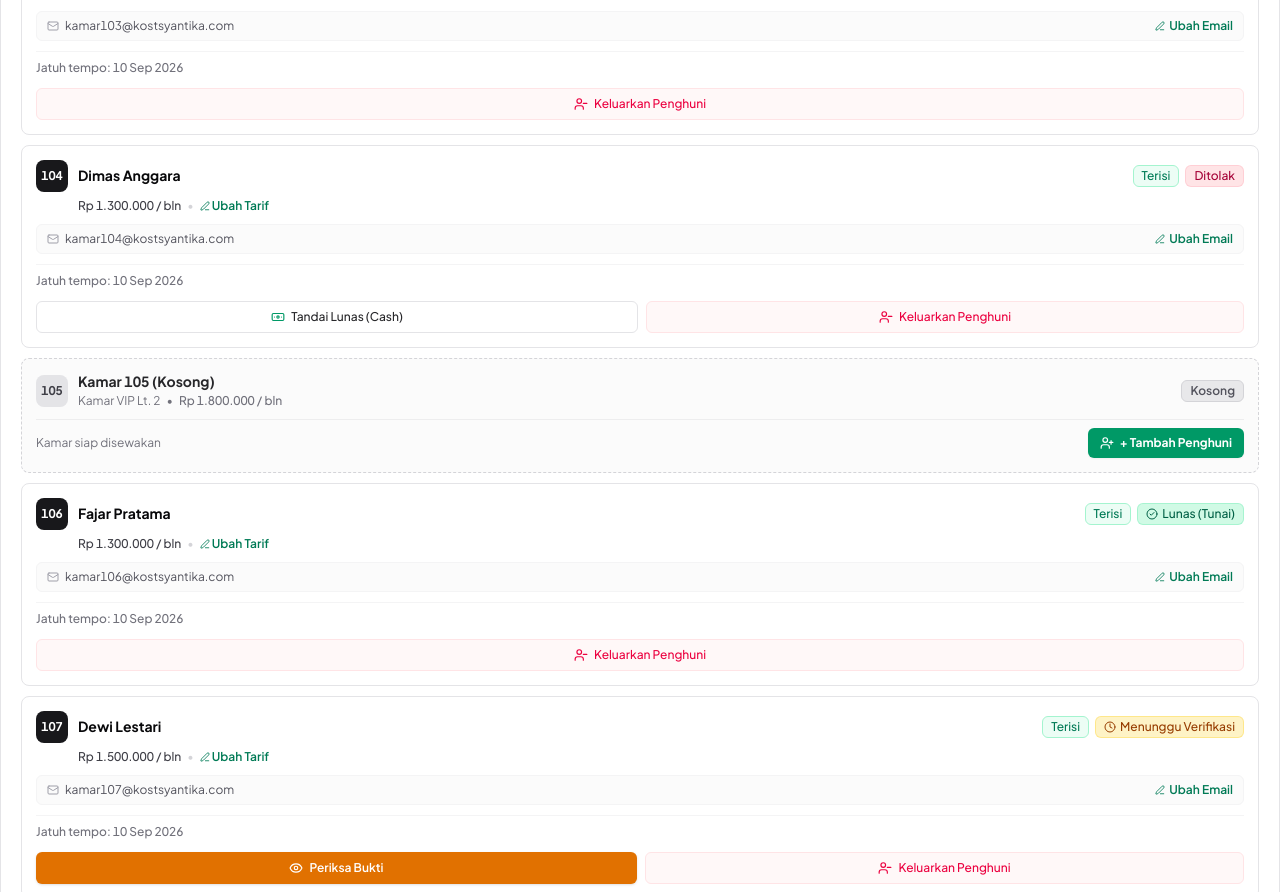
Scenario: PemilikManajemenKamar Integration (Issue 03) › 4. Unit kamar KOSONG dapat mendaftarkan penghuni baru (+ Tambah Penghuni) dan menyinkronkan tanggal jatuh tempo
(page scrolled)
Expected: the text "Kamar 105 (Kosong)" is shown, [78, 372, 215, 390]
Click the button with aria-label "Tambah Penghuni Kamar 105" at (1166,442), box [1088, 428, 1244, 458]
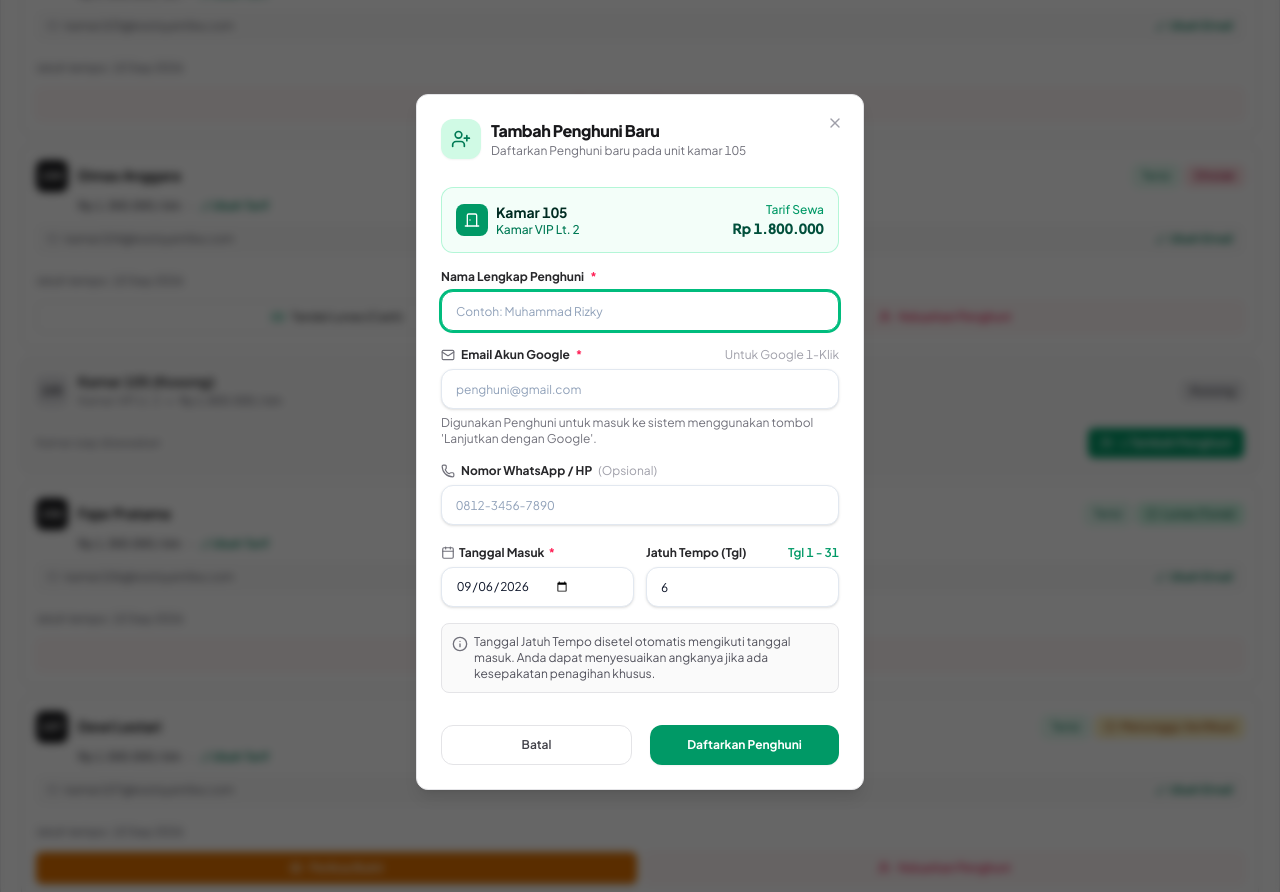
Now the heading "Tambah Penghuni Baru" is shown, box [491, 120, 659, 141]
Now the text "Daftarkan Penghuni baru pada unit kamar 105" is shown, box [491, 143, 746, 159]
Note: Isi formulir
Type "Dewi Putri Maharani" into the field labelled "Nama Lengkap Penghuni *" at (640,311), box [441, 291, 839, 331]
Type "dewiputri@gmail.com" into the field labelled "Email Akun Google * Untuk Google 1-Klik" at (640,389), box [441, 369, 839, 409]
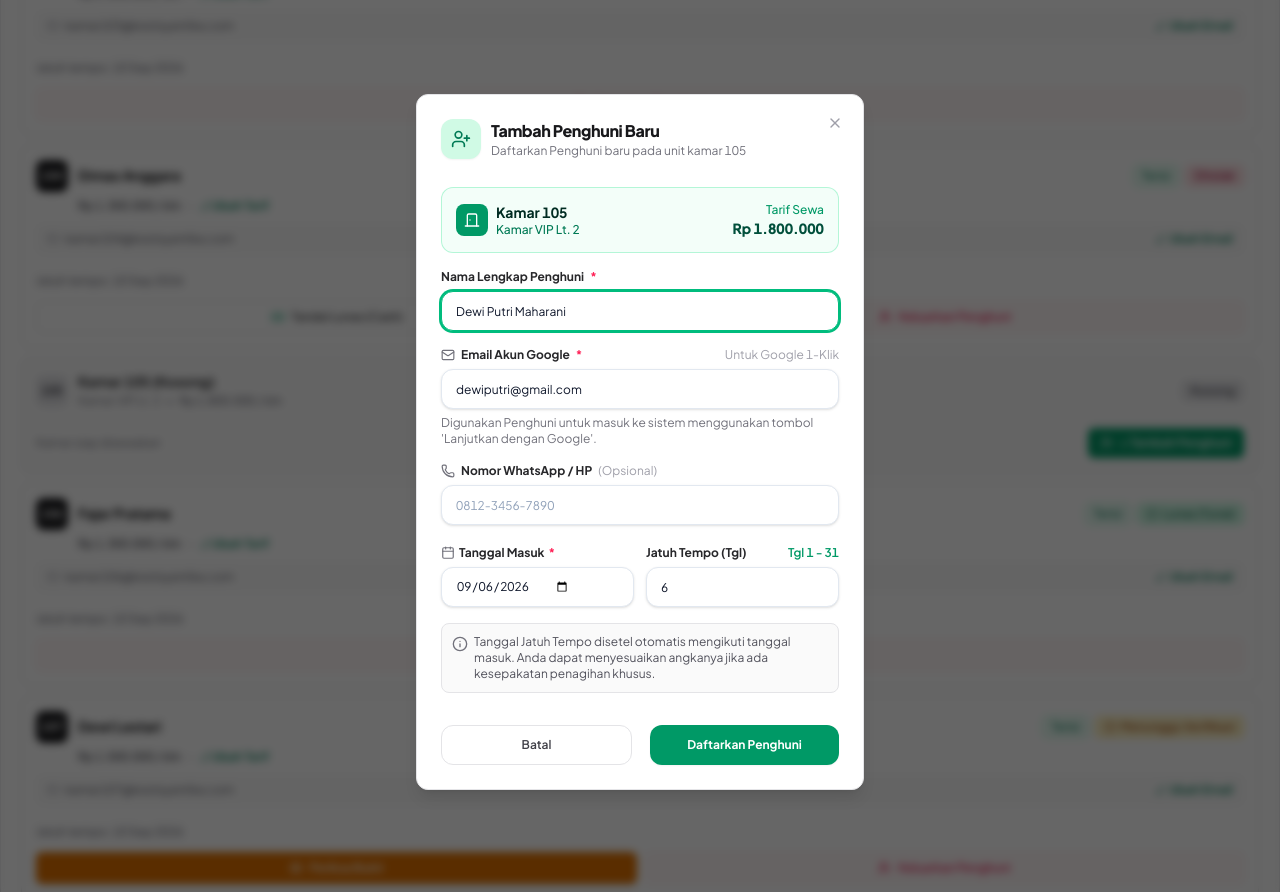
Type "0812-9988-7766" into the field labelled "Nomor WhatsApp / HP (Opsional)" at (640,505), box [441, 485, 839, 525]
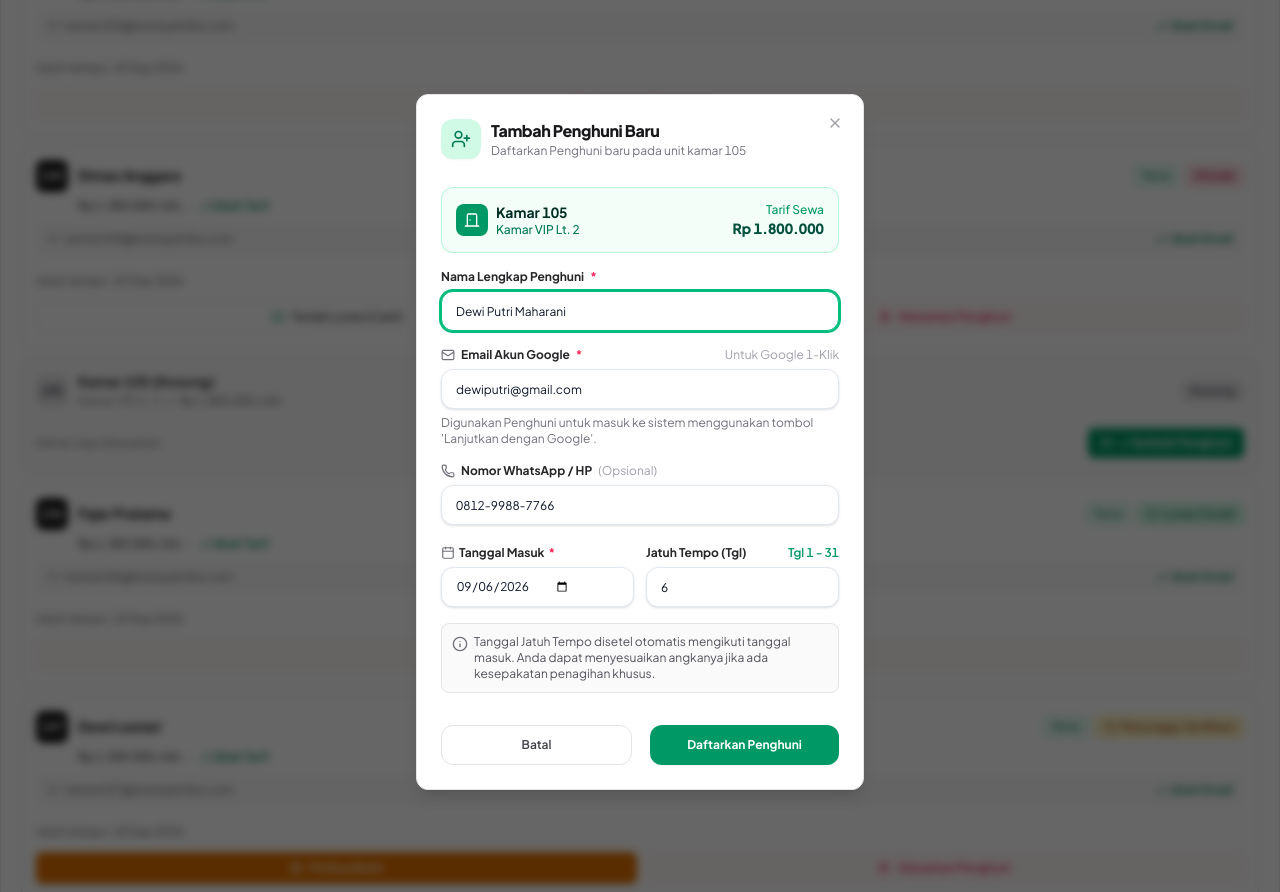
Note: Ubah tanggal masuk ke 2026-09-22
Type "2026-09-22" into the date field labelled "Tanggal Masuk *" at (538,587), box [441, 567, 634, 607]
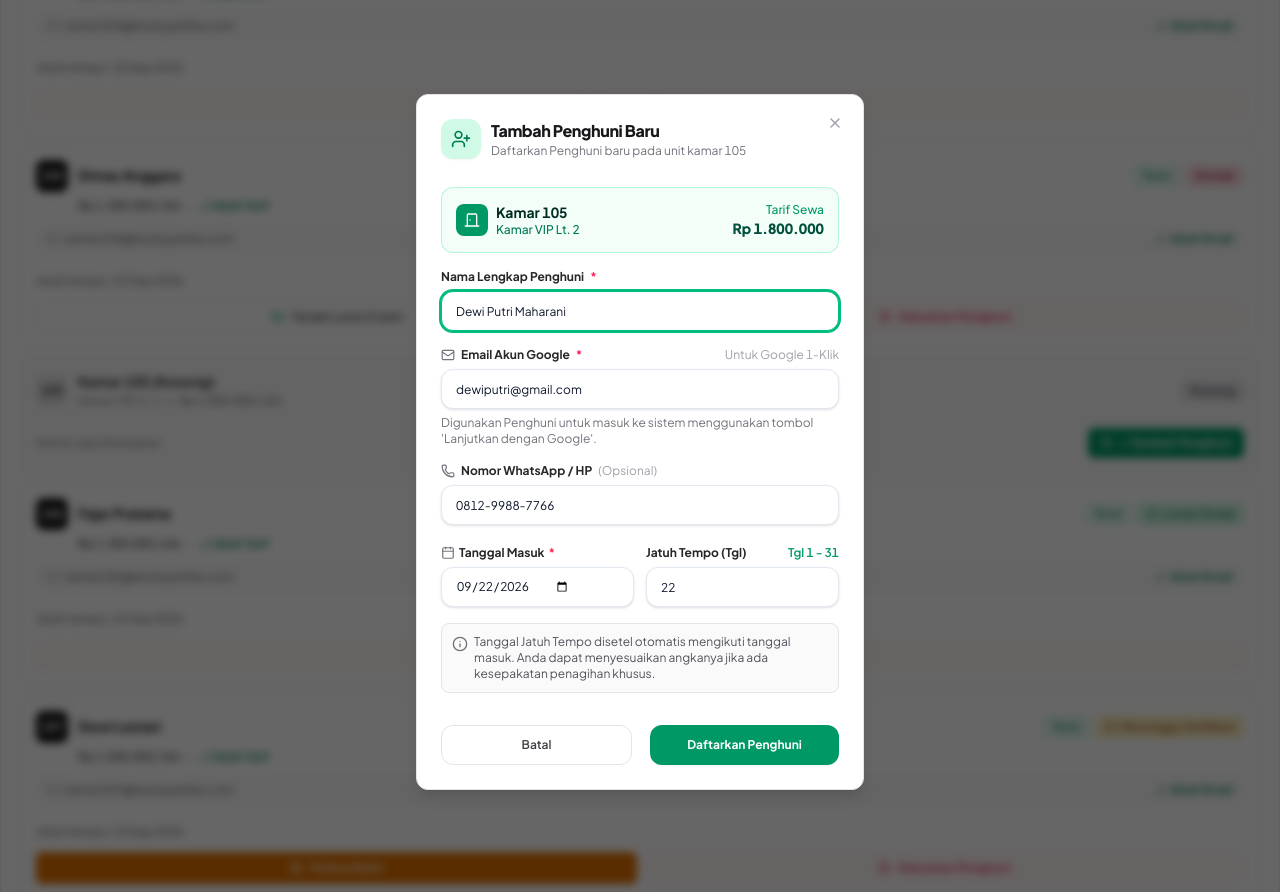
Now the number field labelled "Jatuh Tempo (Tgl) Tgl 1 - 31" holds "22"
Replace the text in the number field labelled "Jatuh Tempo (Tgl) Tgl 1 - 31" with "25" at (742,587), box [646, 567, 839, 607]
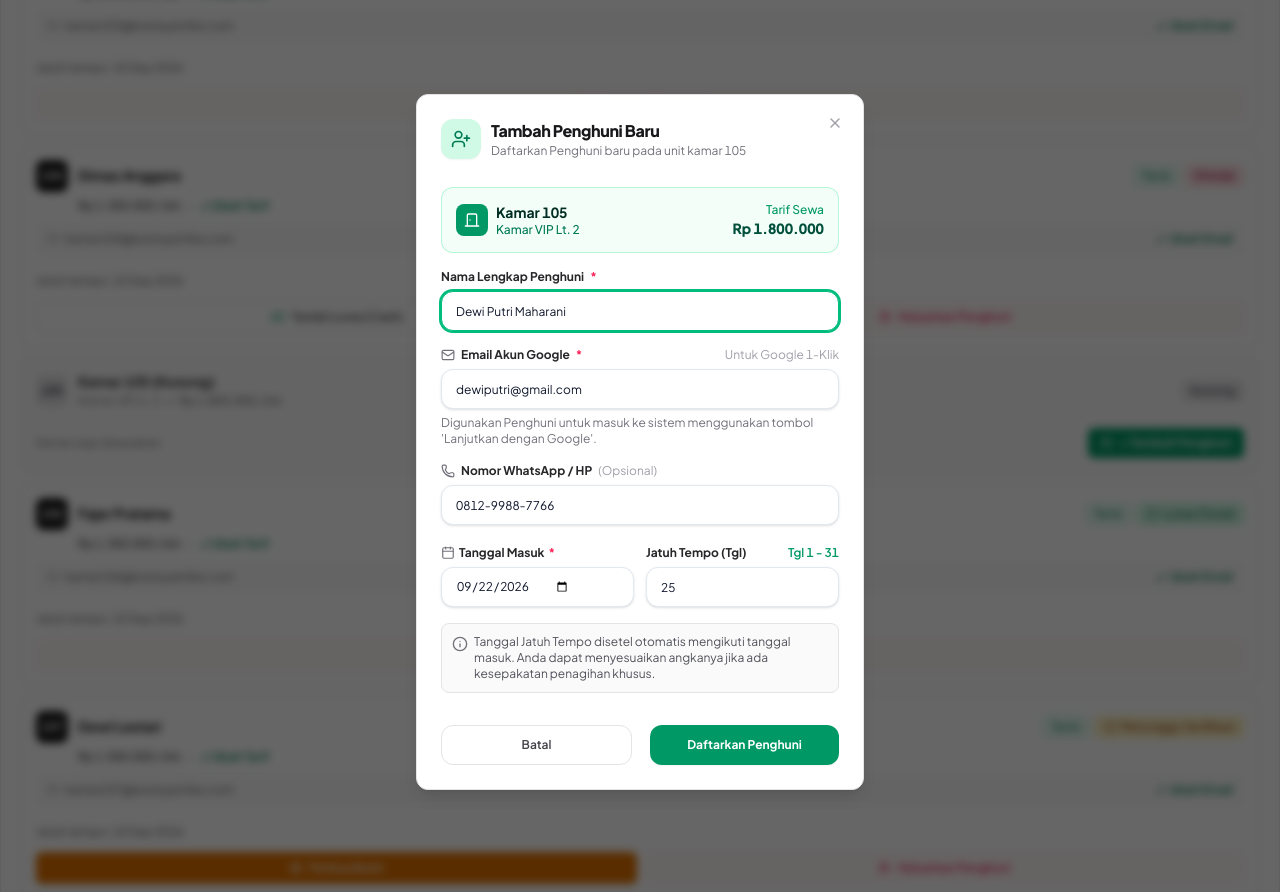
Click the button "Daftarkan Penghuni" at (744,745), box [650, 725, 839, 765]
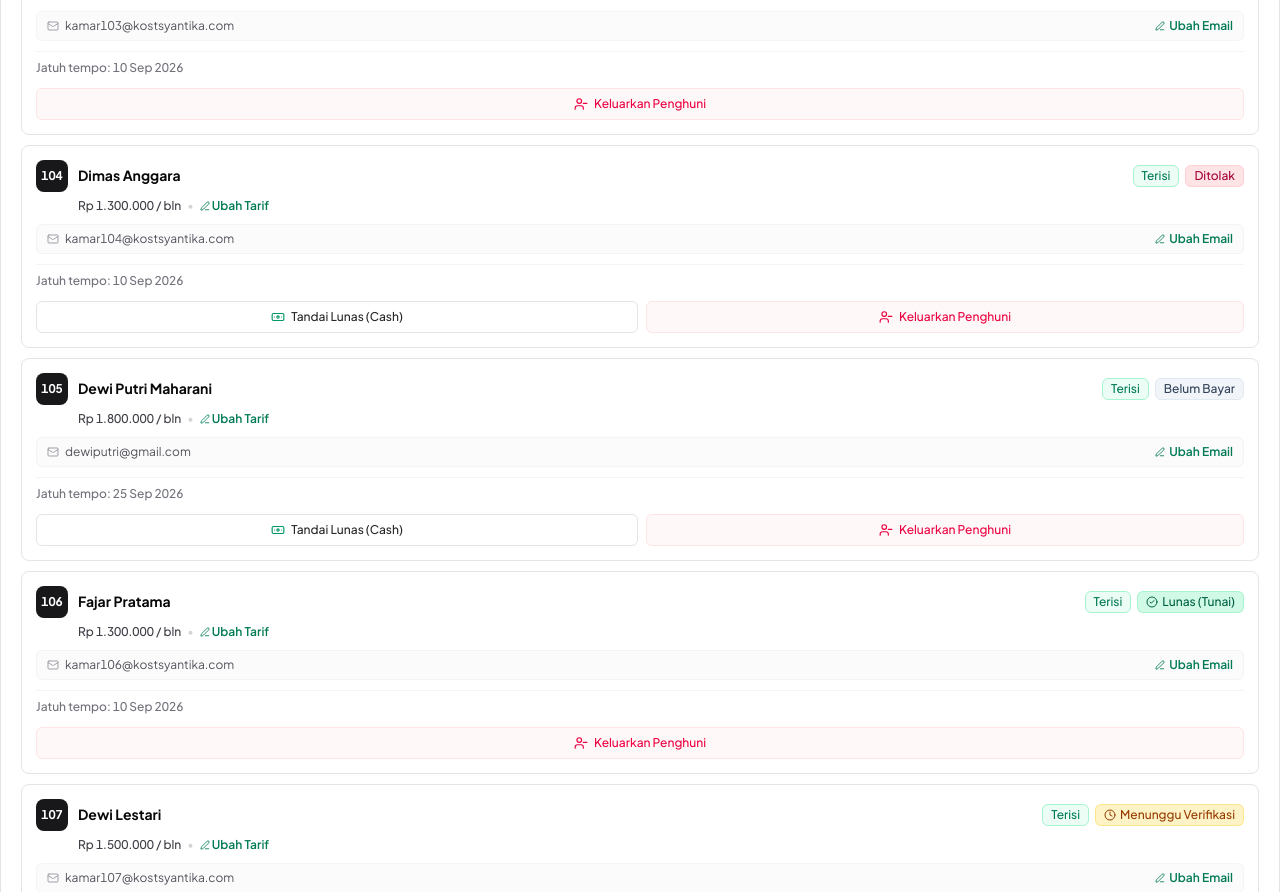
Now the text "Dewi Putri Maharani" is shown, box [78, 380, 212, 398]
Now the text "dewiputri@gmail.com" is shown, box [65, 444, 191, 460]
Now the text "Jatuh tempo: 25 Sep 2026" is shown, box [36, 486, 183, 502]
